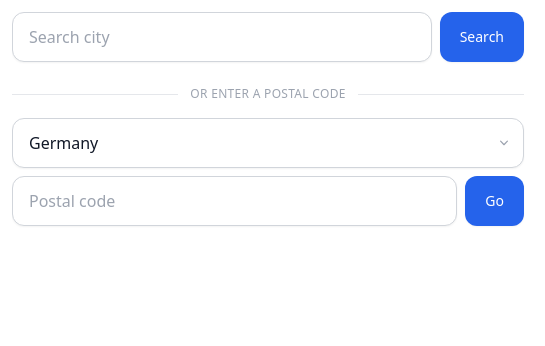
Scenario: LocationSearch › clicking search button with valid input shows results
In the field with placeholder "Search city": point(222, 37) [12,12,432,62], type "Toronto"
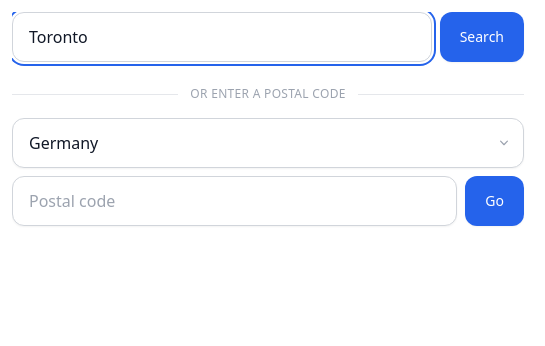
Click the button "Search": point(482, 37) [440,12,524,62]
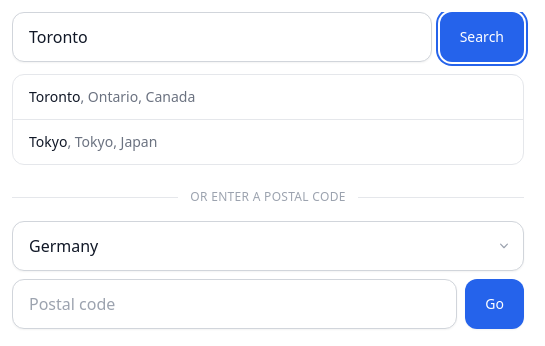
Expected: the text "Toronto" is shown, [29,87,80,106]
Expected: the text ", Ontario" is shown, [80,87,138,106]
Expected: the text ", Canada" is shown, [138,87,195,106]
